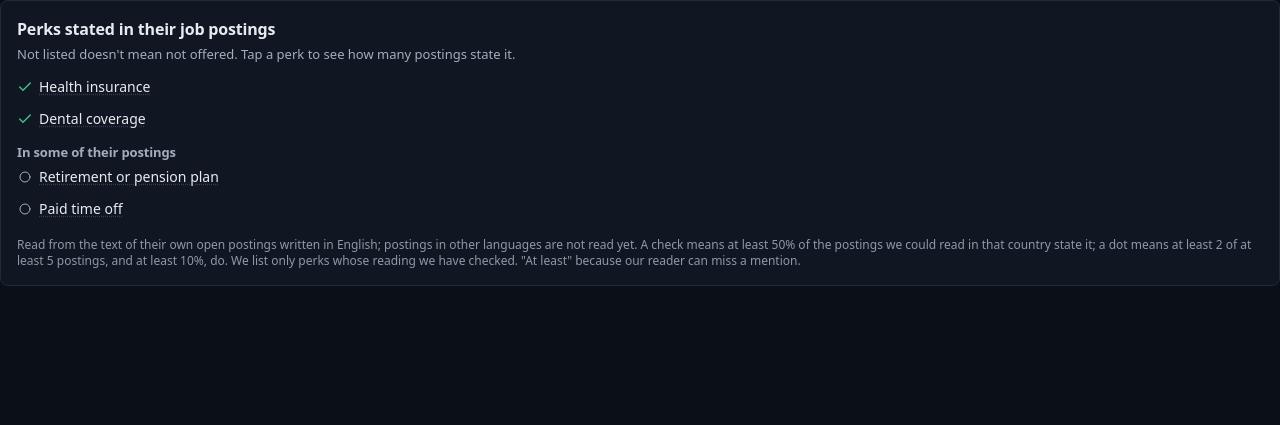
activation opens it; focus never does › an open panel stays open when focus moves on; opening another closes it
The width and height of the screenshot is (1280, 425).
Click the button "Health insurance".
click(84, 87)  # box [17, 71, 150, 103]
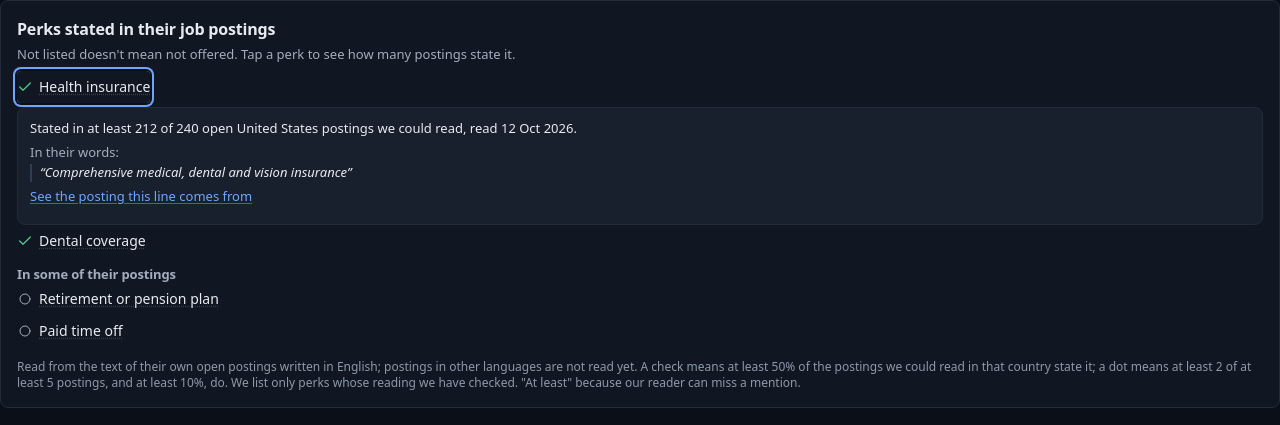
Press Tab
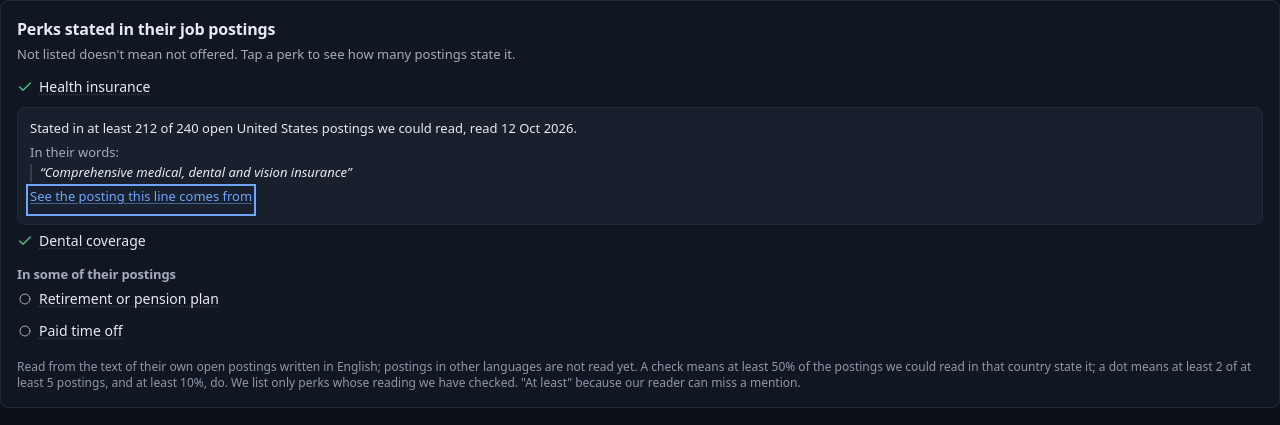
Press Tab
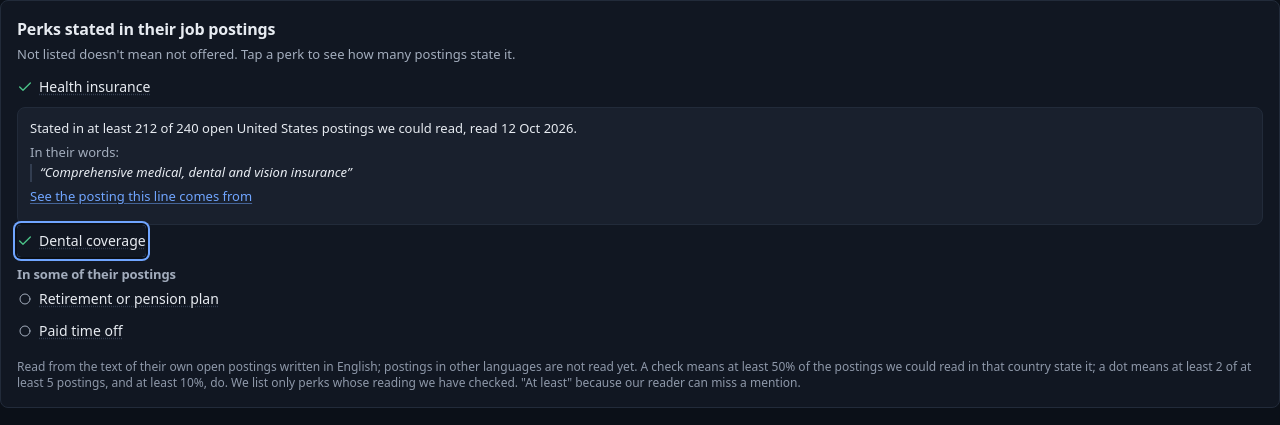
Click the button "Dental coverage".
click(81, 241)  # box [17, 225, 146, 257]
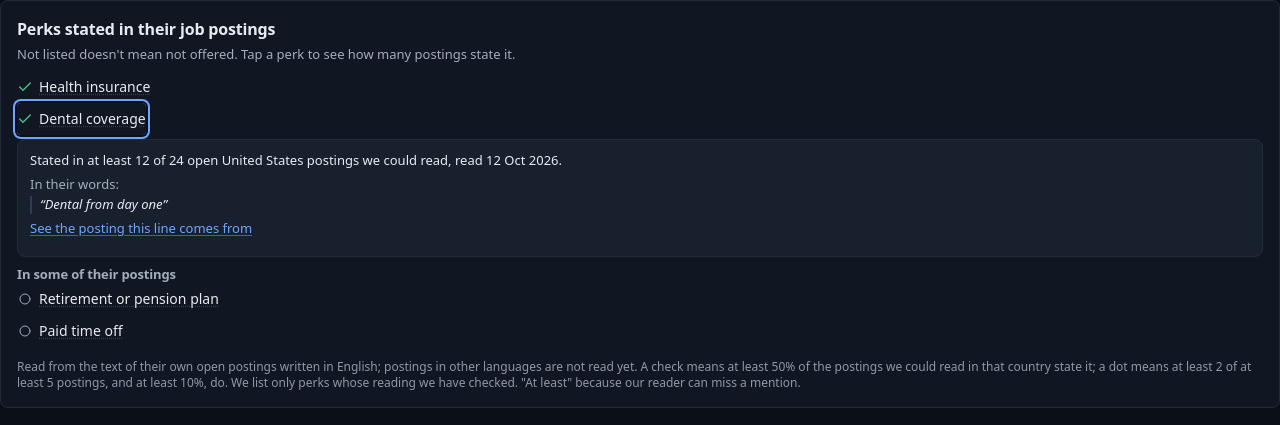
Now the button "Dental coverage" is expanded, box [17, 103, 146, 135]
Now the button "Health insurance" is collapsed, box [17, 71, 150, 103]
